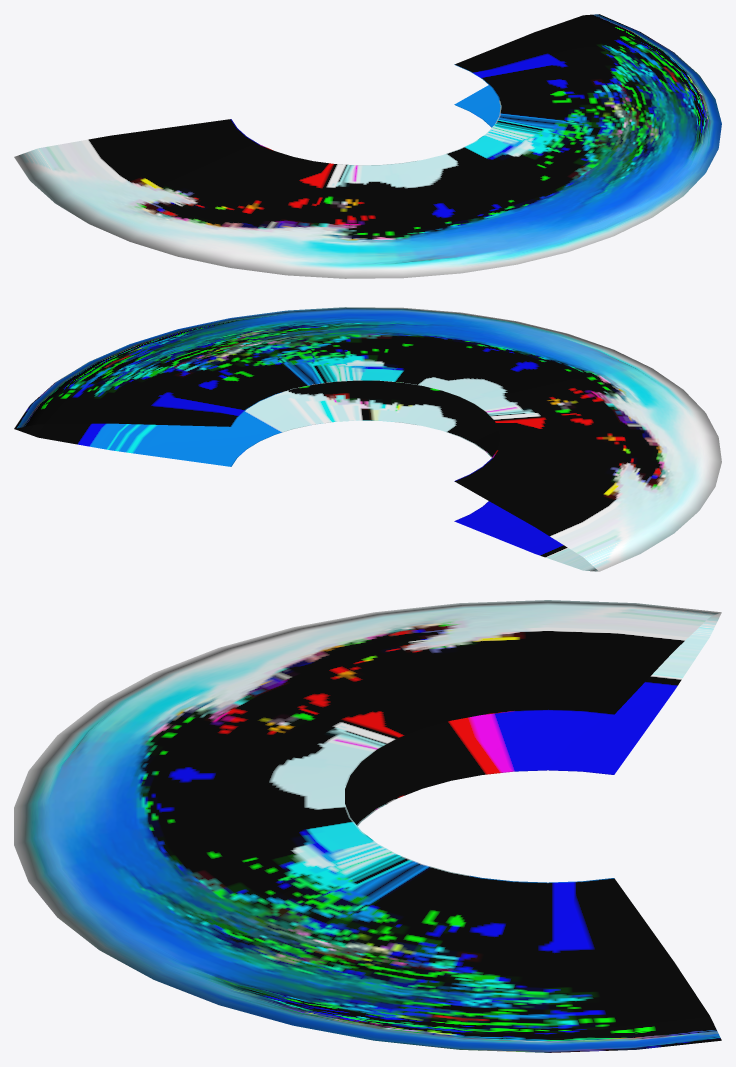
Rendered from Knight_Bullet.fbx.
3 renders of one model, top to bottom at view 1: azimuth 30°, elevation 25°; view 2: azimuth 150°, elevation 25°; view 3: azimuth 270°, elevation 25°, orthographic. The views are drawn at different scales.
Visible parts, largest first — view 1: GW_2203_daoguang_001; view 2: GW_2203_daoguang_001; view 3: GW_2203_daoguang_001.
Part boxes in pixels (x1,y1,x2,y2): GW_2203_daoguang_001: (14, 14, 721, 278); GW_2203_daoguang_001: (14, 307, 721, 571); GW_2203_daoguang_001: (14, 600, 721, 1052).
Size of the model in its own units: 5.7 by 0.353 by 3.77.
